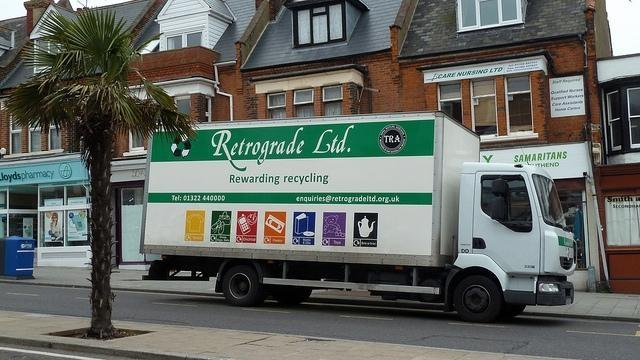truck: (141, 110, 578, 327)
